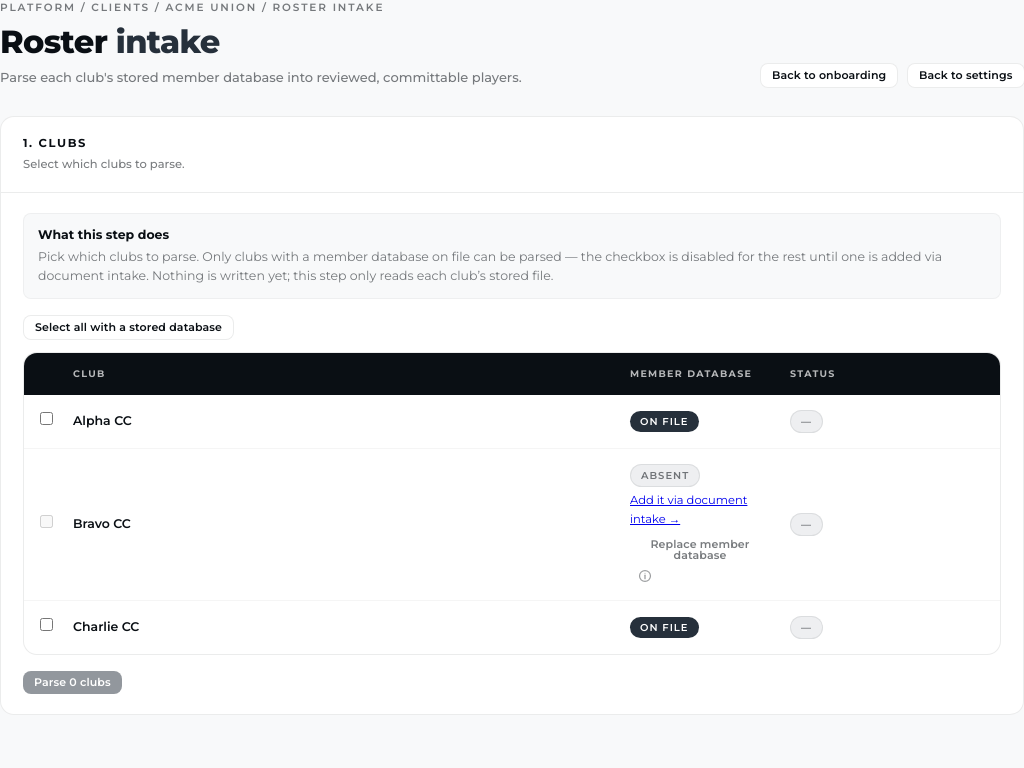
it: RosterIntakeWizard › blocks Continue while a cross-club duplicate is unresolved, unblocks once resolved
Expected: the heading "Roster intake" is shown, [0,22,220,61]
Click the checkbox named "select alpha cc" at (46, 418), box [40,412,53,425]
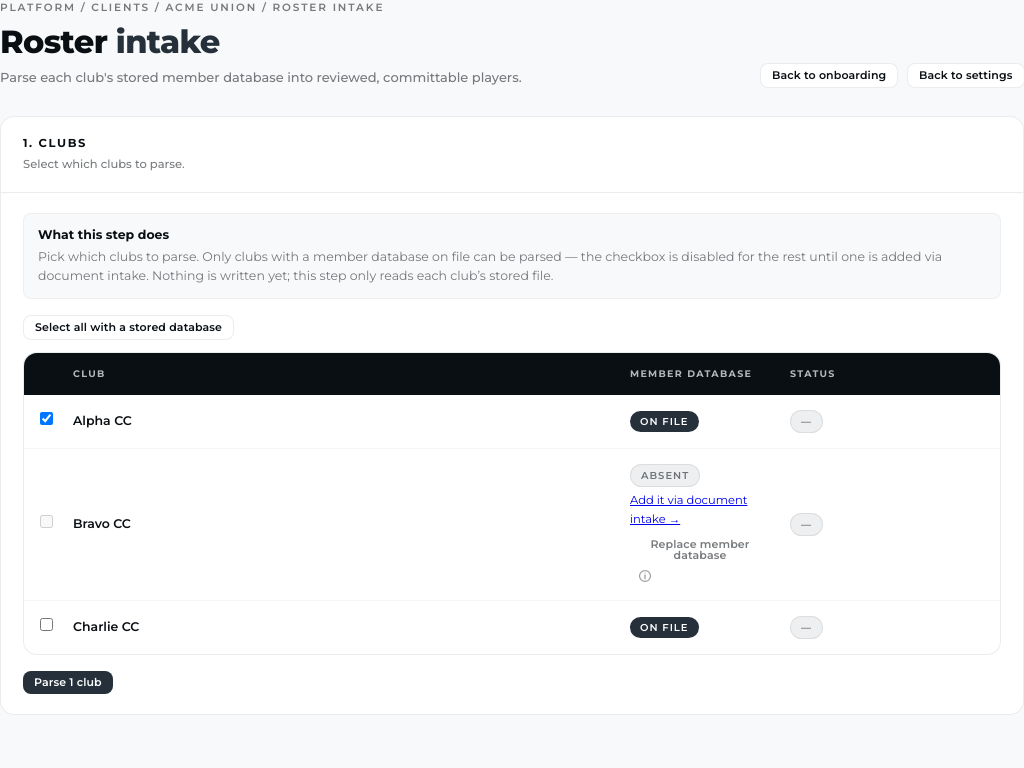
Click the checkbox named "select charlie cc" at (46, 625), box [40,618,53,631]
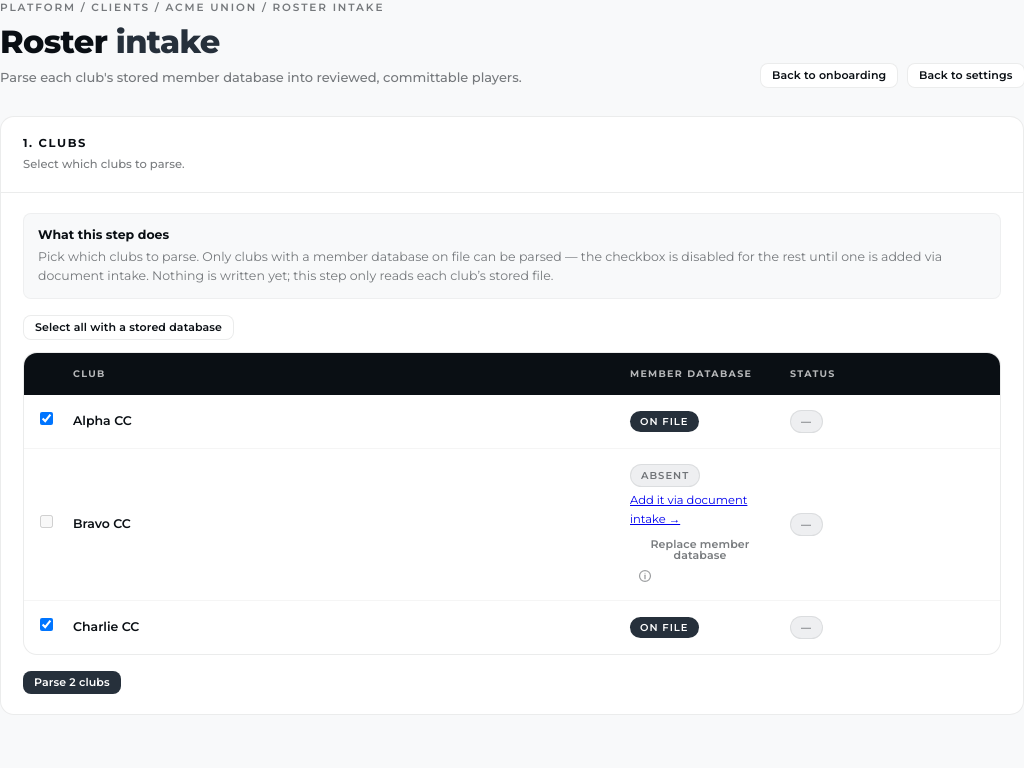
Click the button "Parse 2 clubs" at (72, 682), box [23,671,121,694]
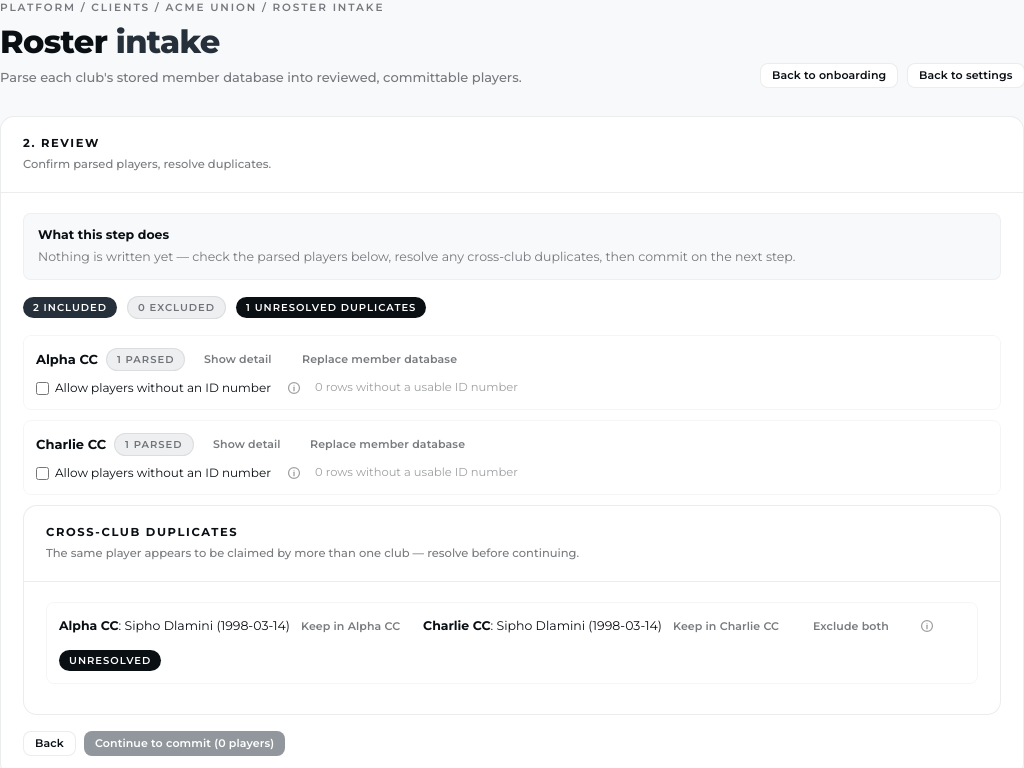
Expected: the button "Exclude both" is shown, [802,614,900,637]
Expected: the button "Continue to commit (0 players)" is disabled, [84,730,285,755]
Expected: the button named "not sure what to do?" is shown
Click the button named "not sure what to do?" at (927, 626), box [914,613,940,639]
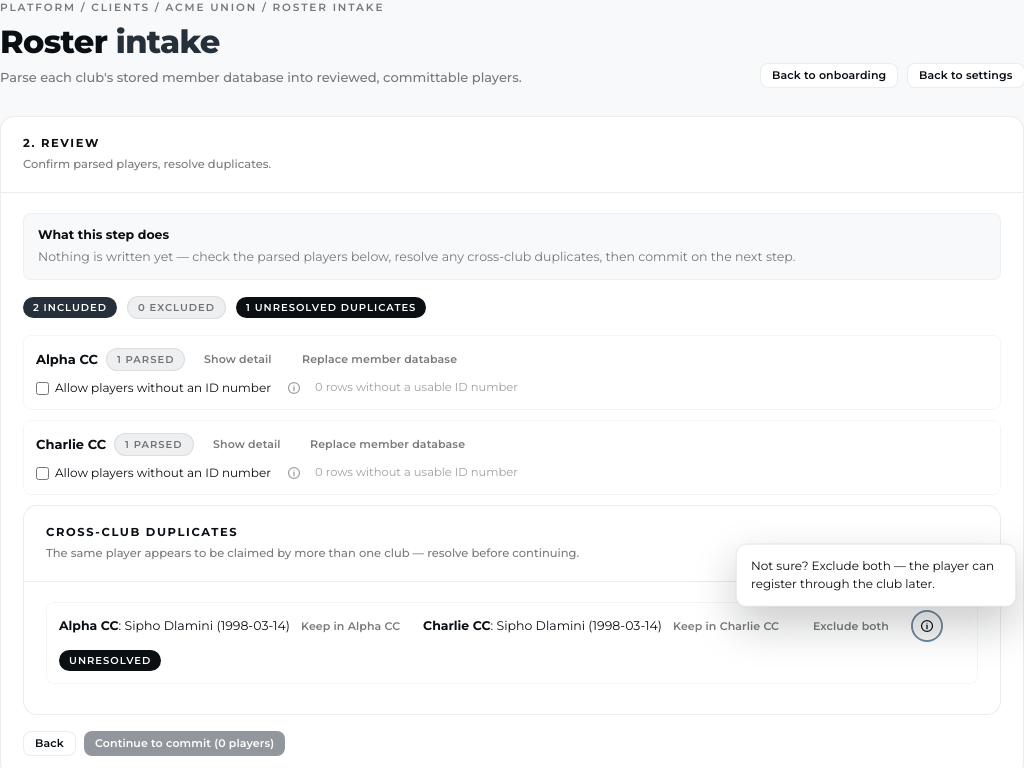
Expected: the tooltip "Not sure? Exclude both" is shown, [751,558,994,591]
Click the button "Keep in Alpha CC" at (350, 626), box [290,614,411,637]
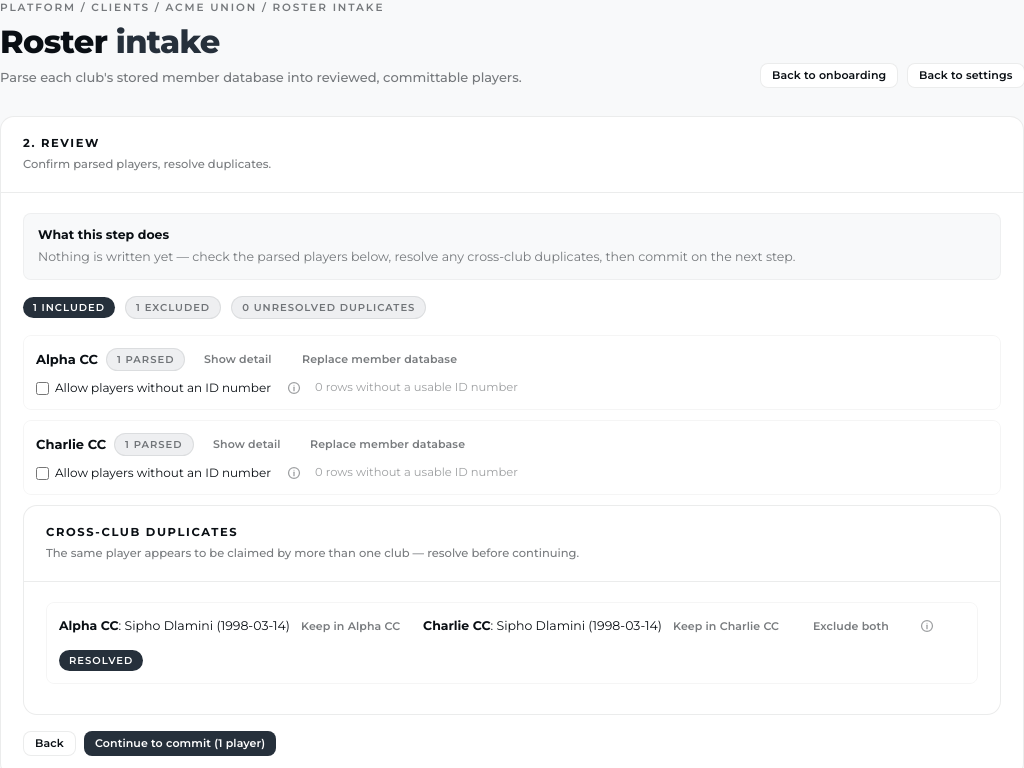
Expected: the button "Continue to commit (1 player)" is enabled, [84,730,276,755]
